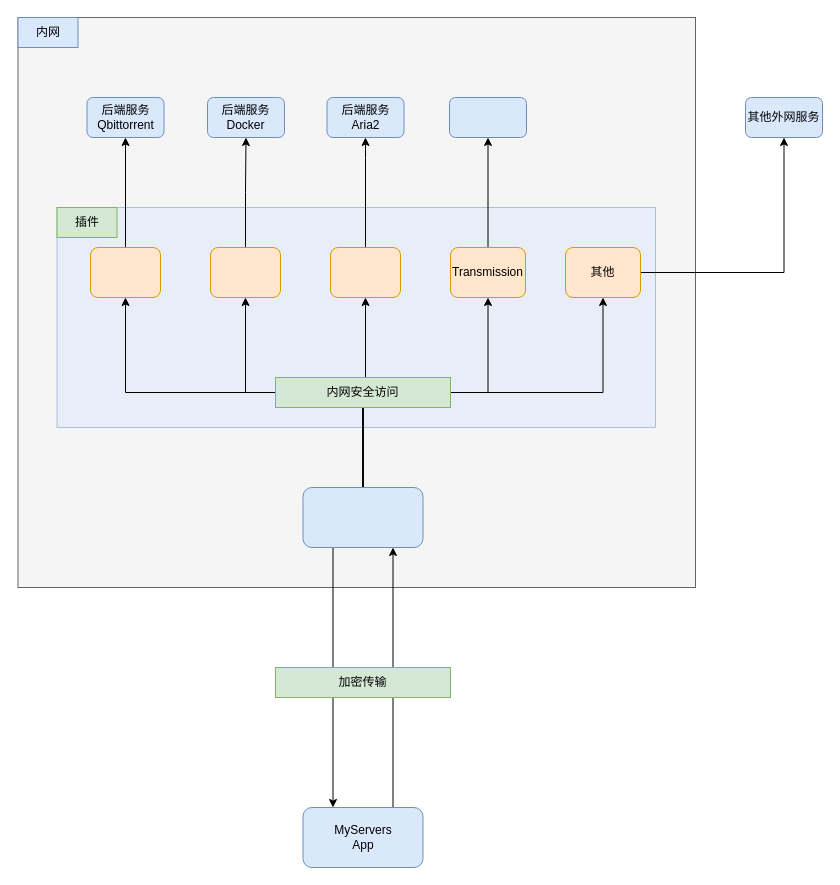
This 840x885 diagram has some shape labels left out. Here are the shapes that lost their labels. From the top down, the centre of each, then its label:
At point (487, 117): "后端服务 Transmission".
At point (125, 272): "Qbittorrent".
At point (245, 272): "Docker".
At point (365, 272): "Aria2".
At point (362, 517): "MyServers 服务端".
